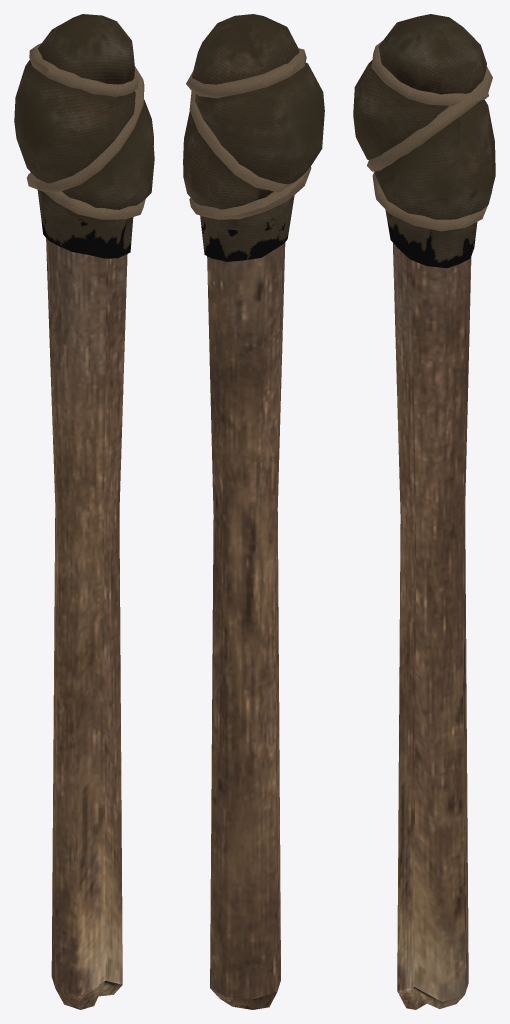
File: Torch2.glb
3 renders of one model, left to right at view 1: azimuth 30°, elevation 25°; view 2: azimuth 150°, elevation 25°; view 3: azimuth 330°, elevation 25°, orthographic.
Visible parts, largest first — view 1: Torch; view 2: Torch; view 3: Torch.
Boxes of the visible parts, x1,y1,x2,y2 form: Torch: (14, 14, 154, 1009); Torch: (183, 14, 324, 1009); Torch: (353, 14, 495, 1009).
Bounding box in the file's own units: 0.232 × 1.76 × 0.2153.
Materials: 1 (1 with a texture image).
